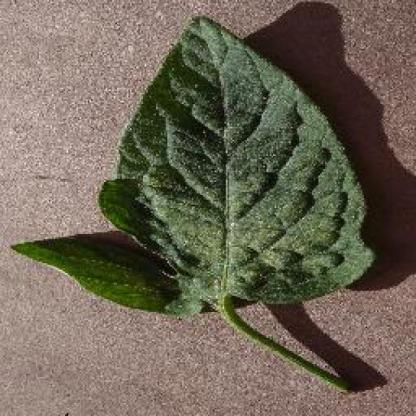Tomato_Spider_Mites: (14, 18, 375, 309)
